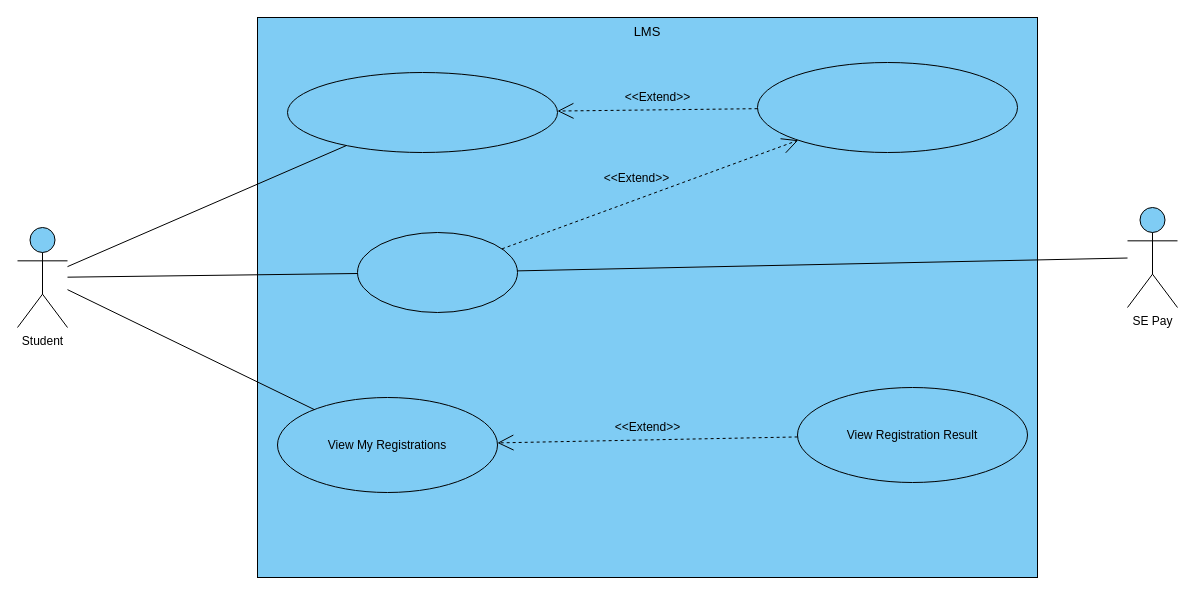
The diagram is 1195 pixels wide and 595 high, and some of its shapes have lost their labels. Each missing label, with the centre of its shape:
Register Course: point (437, 272)
View Available Courses: point (422, 112)
View Course Details: point (887, 107)
